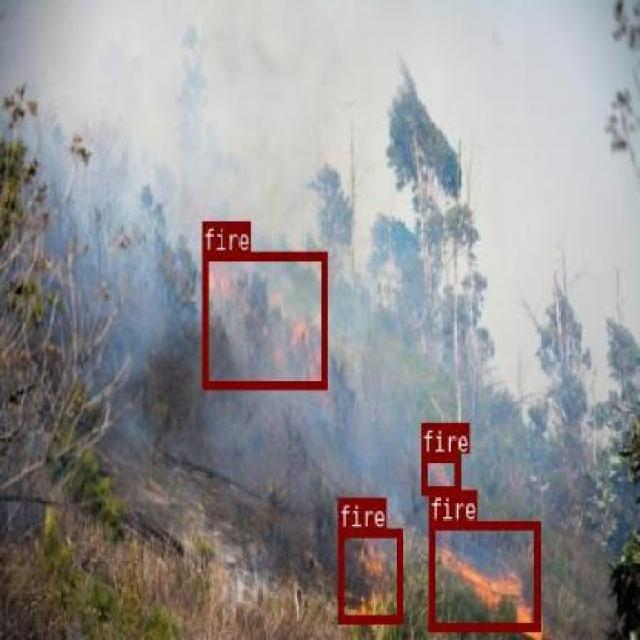Fire: (201, 250, 325, 388), (428, 519, 538, 630), (338, 528, 402, 622), (420, 452, 460, 494)
